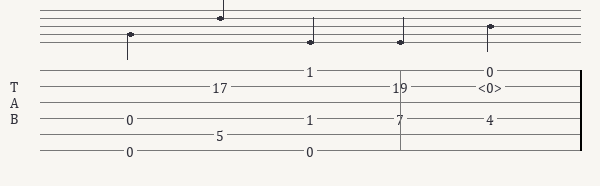0: (126, 111, 138, 125), (126, 143, 138, 157), (306, 143, 318, 157), (486, 63, 498, 77)
1: (306, 63, 318, 77), (306, 111, 318, 125)
17: (212, 79, 232, 93)
19: (392, 79, 412, 93)
4: (486, 111, 498, 125)
5: (216, 127, 228, 142)
7: (396, 111, 408, 125)
harmonic: (478, 79, 506, 93)
